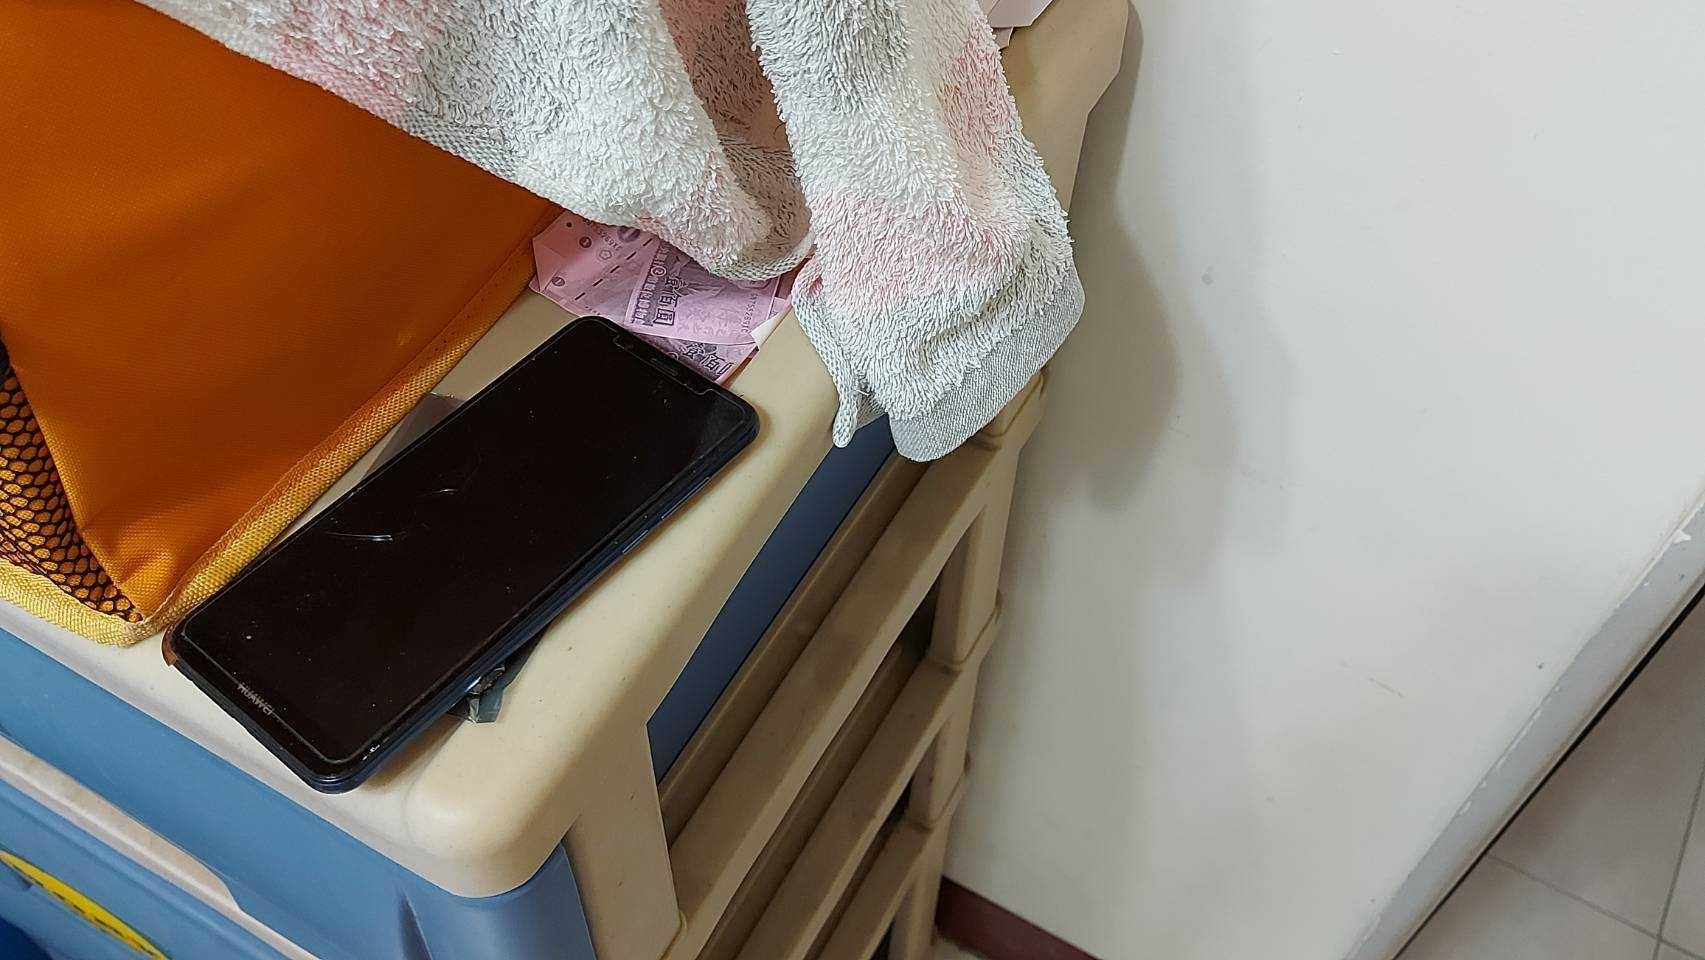Phone: (115, 293, 810, 884)
